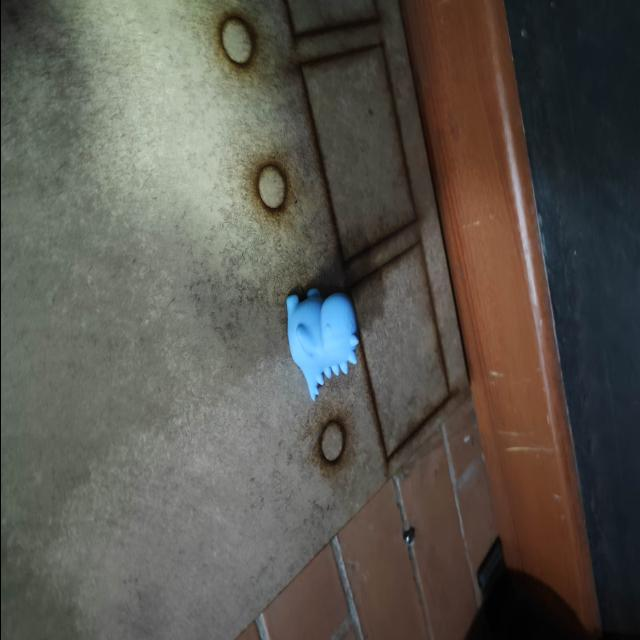DINO: (280, 279, 374, 409)
